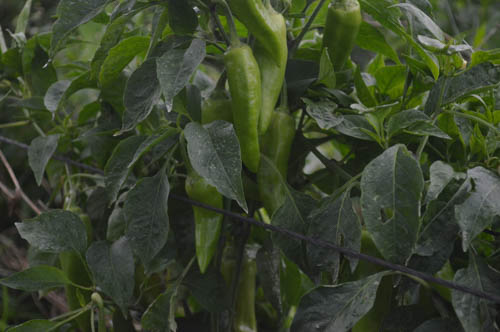ChiliPepper: (219, 45, 272, 171), (49, 204, 90, 332), (247, 6, 287, 135), (258, 109, 297, 218), (182, 173, 221, 272), (232, 2, 286, 62), (317, 1, 359, 71)
